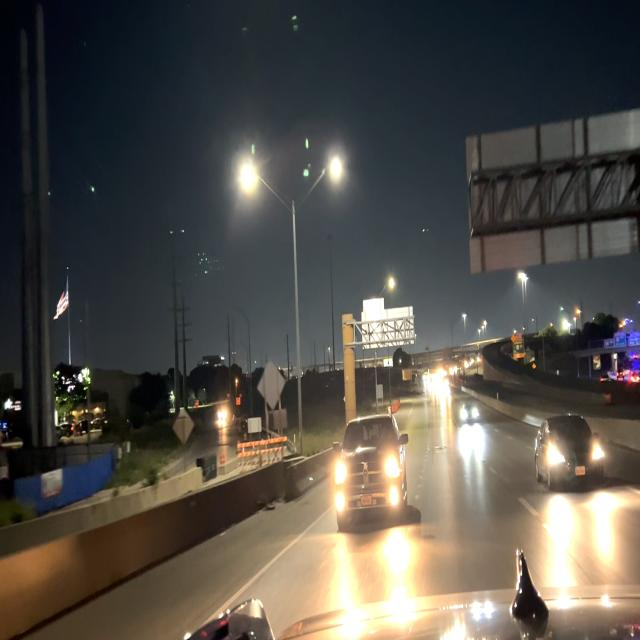back-of-sign: (469, 109, 640, 280), (362, 299, 415, 349), (258, 360, 286, 409), (174, 409, 194, 444), (248, 417, 262, 432)
